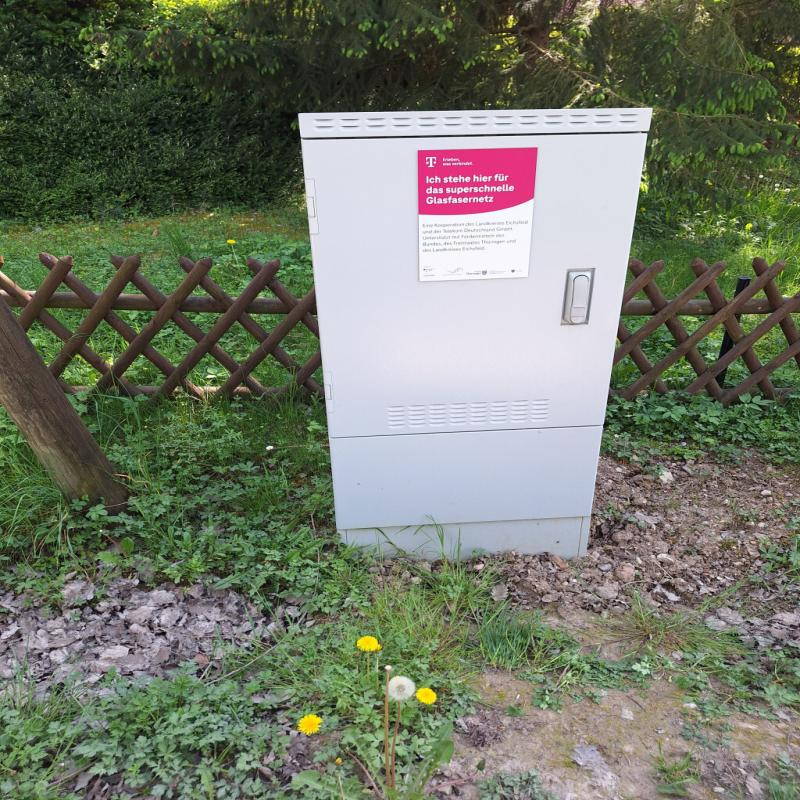NT-Gehause: (305, 112, 646, 556)
Steaker: (417, 147, 538, 278)
